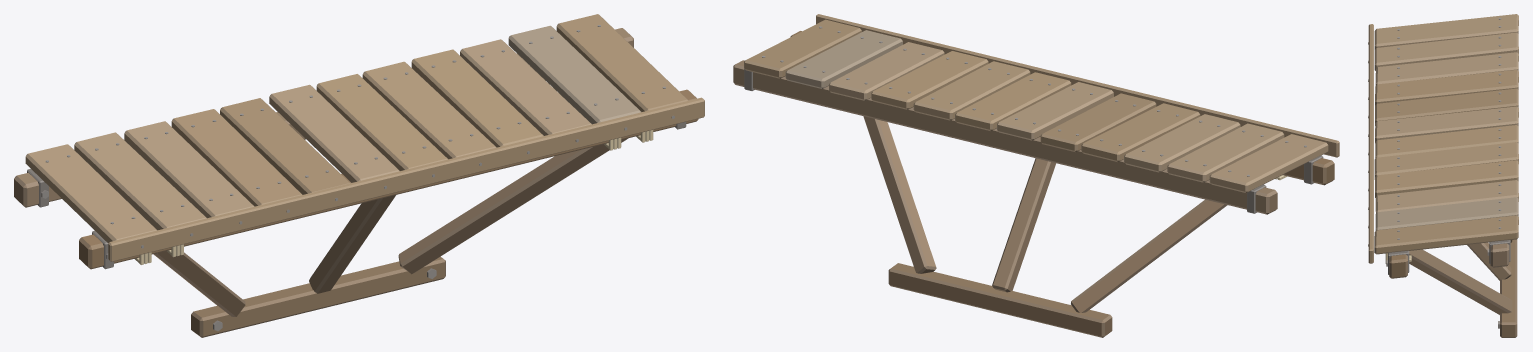
The model's file is platform_braced_360.glb.
3 renders of one model, left to right at view 1: azimuth 30°, elevation 25°; view 2: azimuth 150°, elevation 25°; view 3: azimuth 270°, elevation 25°, orthographic. The views are drawn at different scales.
Parts seen in each view (by area): view 1: Wood, Iron, Rope; view 2: Wood, Iron; view 3: Wood, Iron.
Boxes of the visible parts, left/top/right/bottom form: Wood: left=14, top=14, right=704, bottom=337; Iron: left=27, top=25, right=686, bottom=331; Rope: left=134, top=130, right=653, bottom=264; Wood: left=733, top=14, right=1339, bottom=337; Iron: left=744, top=26, right=1323, bottom=213; Wood: left=1368, top=14, right=1518, bottom=337; Iron: left=1368, top=18, right=1510, bottom=328.
Bounding box in the file's own units: 3.8 × 1.3 × 1.04.
